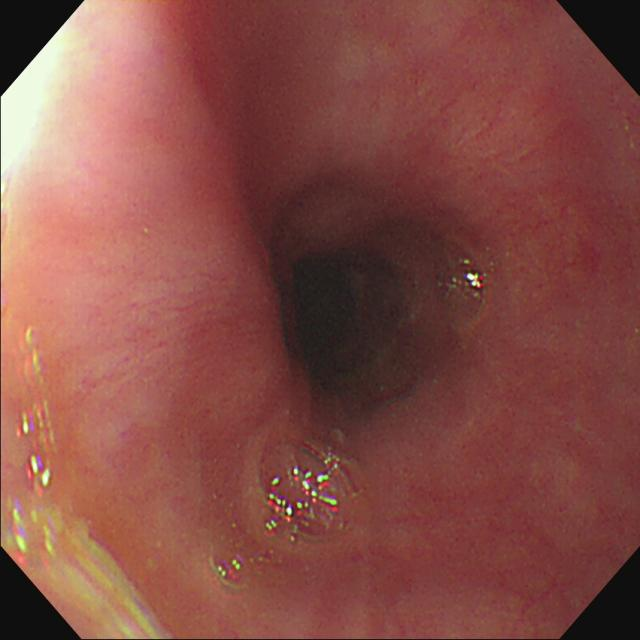E: (295, 255, 407, 363)
T: (210, 431, 362, 601), (431, 243, 490, 334)
U: (2, 500, 175, 640), (265, 468, 340, 535), (17, 398, 56, 495)
